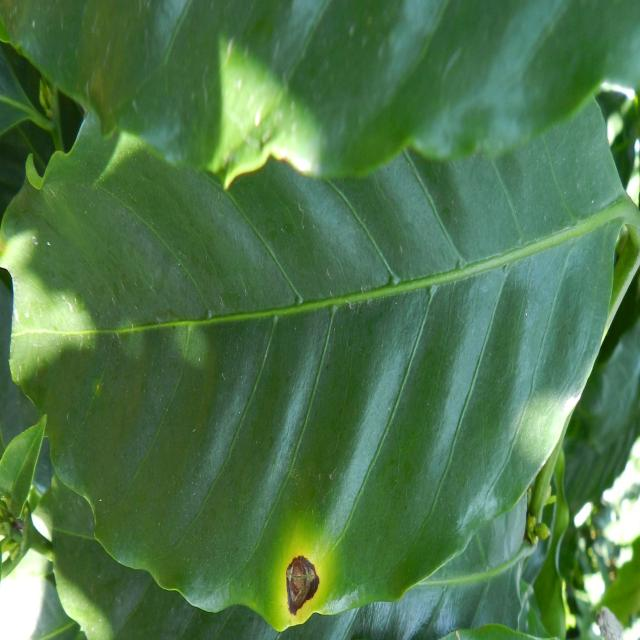Enfermedad-Mancha-de-hierro: (0, 103, 640, 633)
